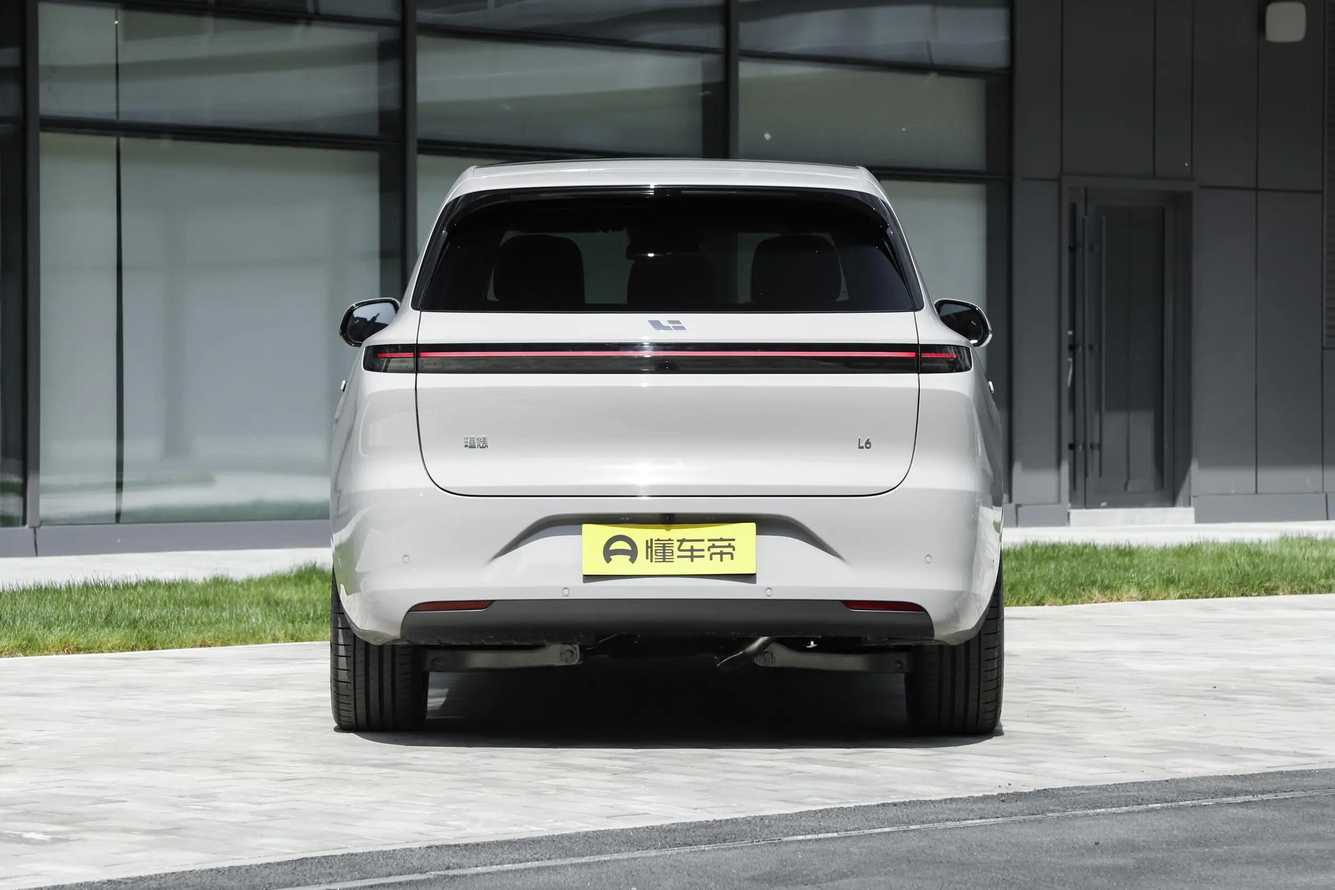Li Auto: (648, 320, 688, 333)
